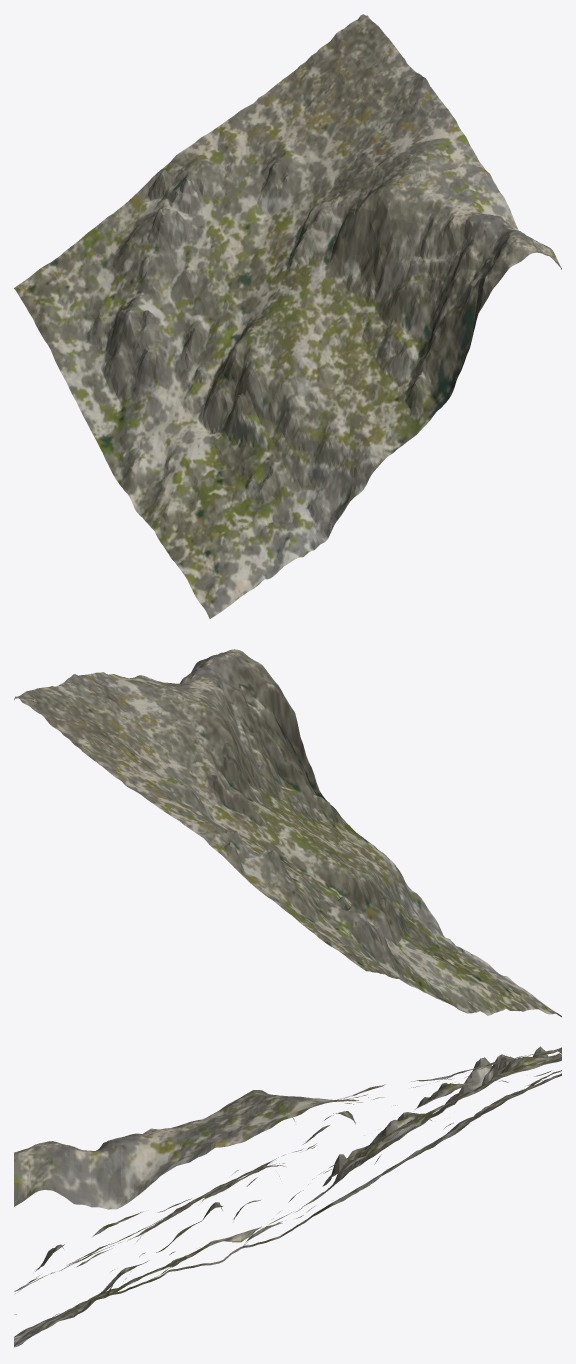
3 renders of one model, top to bottom at view 1: azimuth 30°, elevation 25°; view 2: azimuth 150°, elevation 25°; view 3: azimuth 270°, elevation 25°, orthographic. The views are drawn at different scales.
Bounding box in the file's own units: 250 × 256 × 241.
Materials: 1 (1 with a texture image).
